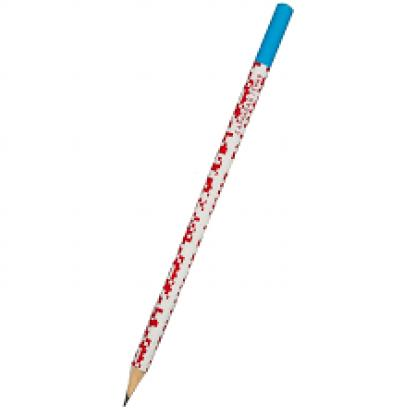pencil: (120, 3, 298, 416)
